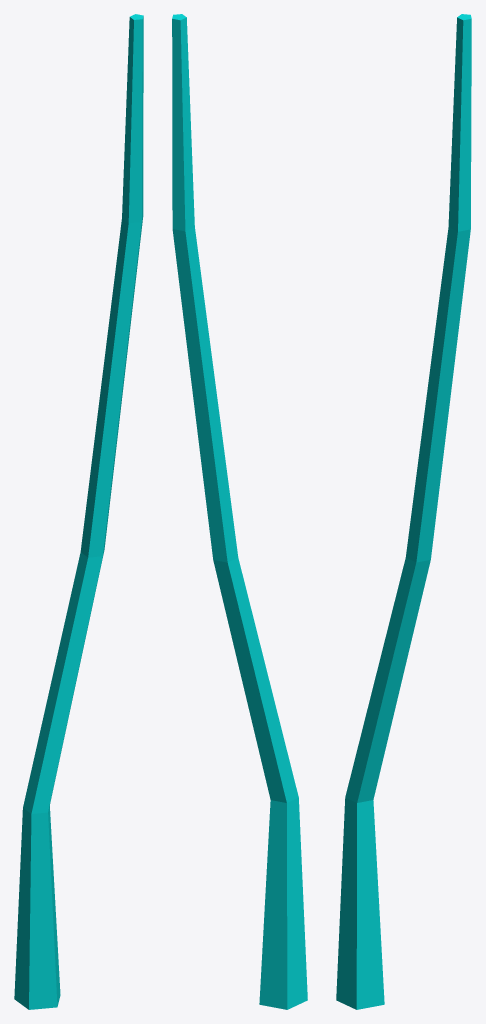
The model's file is SM_Env_Palm_02_Collision.fbx.
The picture shows the model from 3 angles, left to right: view 1: azimuth 30°, elevation 25°; view 2: azimuth 210°, elevation 25°; view 3: azimuth 330°, elevation 25°; orthographic projection. The views are drawn at different scales.
Parts seen in each view (by area): view 1: SM_Env_Palm_02_Collision; view 2: SM_Env_Palm_02_Collision; view 3: SM_Env_Palm_02_Collision.
Part boxes in pixels (x1=…): SM_Env_Palm_02_Collision: x1=14, y1=14, x2=143, y2=1009; SM_Env_Palm_02_Collision: x1=172, y1=14, x2=307, y2=1009; SM_Env_Palm_02_Collision: x1=336, y1=14, x2=471, y2=1009.
Size of the model in its own units: 71.45 by 537 by 23.95.
